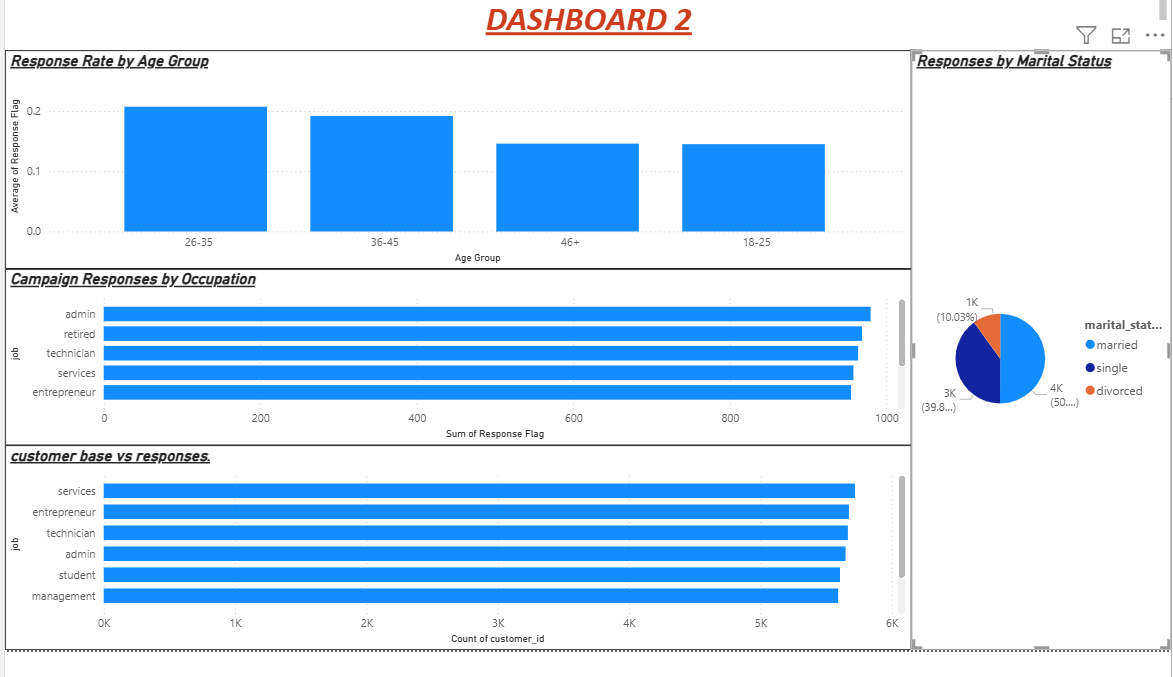

The dashboard page shown, as its layout file describes it:
{"tool":"powerbi","page":{"name":"Dashboard 2","canvas":[1280,720],"ordinal":1},"visuals":[{"type":"textbox","box":[9.6,0,1270.7,61.7],"z":0},{"type":"clusteredColumnChart","title":"Response Rate by Age Group","fields":{"Category":["campaign_data.Age Group"],"Y":["Avg(campaign_data.Response Flag)"]},"box":[0,61.7,994.9,240.1],"z":1000},{"type":"barChart","title":"Campaign Responses by Occupation","fields":{"Category":["campaign_data.job"],"Y":["Sum(campaign_data.Response Flag)"]},"box":[0,301.9,994.9,193.5],"z":2000},{"type":"barChart","title":"customer base vs responses.","fields":{"Category":["campaign_data.job"],"Y":["CountNonNull(campaign_data.customer_id)"]},"box":[0,495.4,994.9,225],"z":3000},{"type":"pieChart","title":"Responses by Marital Status","fields":{"Category":["campaign_data.marital_status"],"Y":["Sum(campaign_data.Response Flag)"]},"box":[994.9,61.7,285.4,658.7],"z":4000}]}

Visuals, with their boxes in screenshot pixels (x1, y1, x2, y2), scaled from the page's 1280x720 canvas onto the 1173x677 screenshot:
textbox: 9/0/1172/58
"Response Rate by Age Group" clusteredColumnChart: 0/58/912/284
"Campaign Responses by Occupation" barChart: 0/284/912/466
"customer base vs responses." barChart: 0/466/912/676
"Responses by Marital Status" pieChart: 912/58/1172/676
